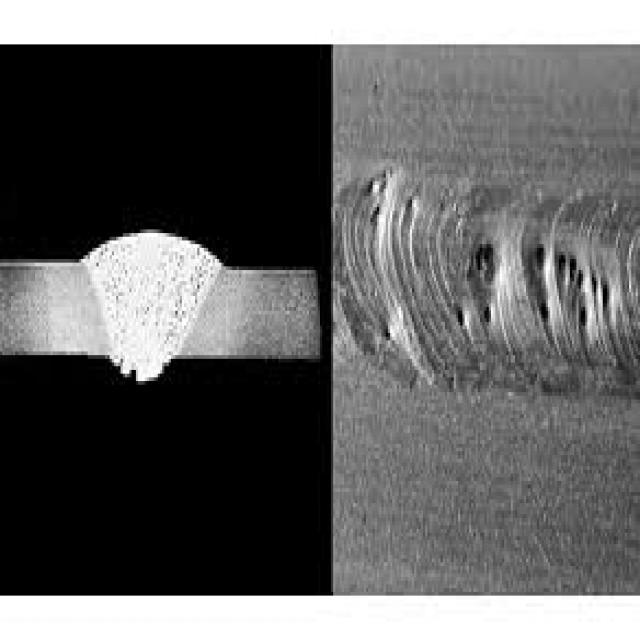Bad Weld: (331, 158, 638, 414)
Defect: (528, 240, 612, 333), (447, 236, 493, 330)
